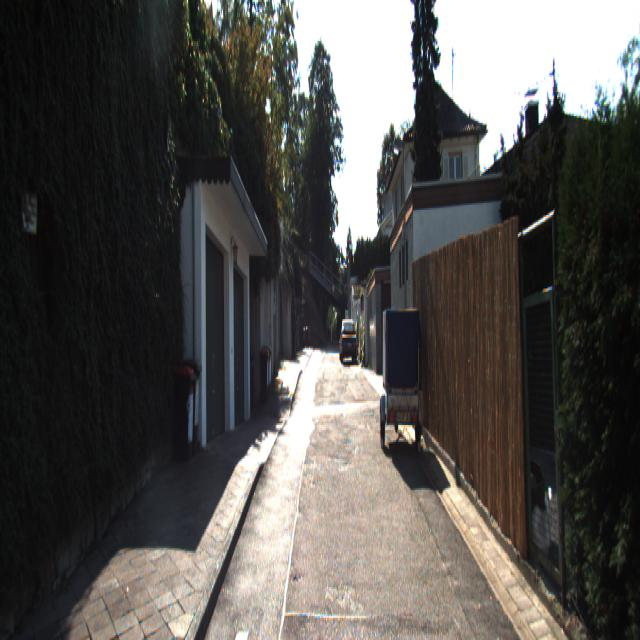Car: (379, 300, 427, 453), (339, 318, 358, 366)
